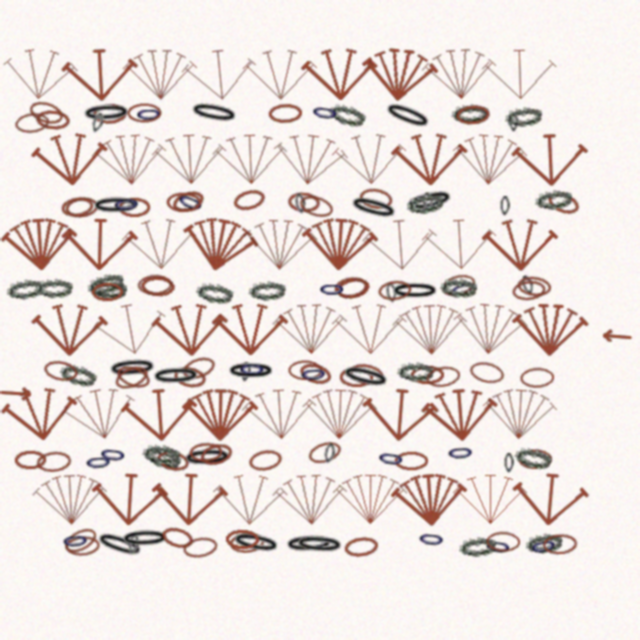chain: (381, 98, 434, 134), (93, 528, 146, 562), (347, 192, 400, 224), (403, 186, 456, 216), (339, 362, 392, 392), (188, 99, 240, 127), (230, 529, 282, 557), (61, 524, 100, 557), (85, 269, 126, 299), (107, 356, 158, 380), (112, 362, 151, 393), (142, 443, 183, 472), (182, 446, 233, 469), (294, 533, 345, 556), (114, 362, 152, 392), (180, 353, 218, 383), (81, 102, 132, 124), (327, 101, 367, 129), (58, 361, 98, 389), (27, 98, 65, 127), (297, 192, 335, 221), (306, 438, 344, 467), (151, 365, 201, 387), (284, 533, 334, 555), (439, 271, 478, 299), (405, 190, 445, 217), (170, 187, 207, 216), (545, 189, 582, 218), (91, 195, 141, 216), (120, 528, 170, 549), (5, 276, 45, 302), (513, 445, 553, 471), (524, 530, 564, 556), (231, 186, 268, 214), (297, 360, 334, 388), (198, 440, 235, 468), (159, 524, 196, 552), (468, 359, 506, 386), (390, 281, 440, 301), (226, 361, 276, 381), (347, 361, 385, 387), (504, 104, 543, 129), (534, 187, 573, 212), (458, 534, 497, 559), (334, 275, 371, 301), (42, 358, 79, 384), (247, 447, 284, 473), (174, 188, 207, 217), (195, 281, 234, 305), (172, 364, 208, 390), (155, 448, 191, 474), (182, 535, 219, 560), (358, 186, 394, 211), (425, 364, 461, 389), (451, 102, 489, 125), (248, 279, 286, 302), (14, 111, 50, 135), (64, 195, 100, 219), (343, 535, 379, 559), (60, 195, 95, 219), (333, 275, 368, 299), (35, 277, 73, 299), (142, 443, 180, 465), (447, 276, 479, 302), (377, 279, 413, 302), (511, 279, 547, 302), (516, 275, 552, 298), (36, 450, 72, 473), (229, 531, 265, 554), (542, 533, 578, 555), (440, 277, 477, 298), (397, 361, 434, 382), (35, 109, 70, 131), (455, 104, 490, 126), (140, 275, 175, 297), (65, 535, 100, 557), (137, 274, 173, 295), (287, 191, 321, 213), (528, 534, 559, 558), (90, 279, 127, 299), (92, 103, 127, 124), (268, 103, 302, 124), (520, 367, 554, 388), (189, 442, 223, 463), (486, 531, 520, 552), (127, 103, 162, 123), (166, 192, 201, 212), (310, 101, 340, 124), (98, 443, 128, 466), (376, 447, 406, 470), (483, 535, 513, 558), (288, 360, 322, 380), (339, 367, 373, 387), (410, 365, 444, 385), (394, 451, 428, 471), (518, 449, 552, 469), (225, 529, 259, 549), (118, 197, 151, 217), (91, 282, 124, 302), (14, 450, 47, 470), (112, 193, 141, 215), (299, 363, 328, 385), (84, 451, 113, 473), (417, 528, 446, 550), (446, 442, 475, 463), (61, 530, 90, 551), (135, 104, 163, 124), (318, 279, 346, 299), (238, 359, 266, 379), (520, 274, 536, 296), (90, 112, 105, 134), (294, 193, 307, 214), (385, 282, 398, 303), (323, 443, 336, 464), (127, 534, 140, 555), (422, 192, 434, 213), (508, 112, 519, 132), (240, 362, 251, 382), (500, 196, 510, 216), (504, 453, 514, 473)
fan: (57, 378, 142, 449), (177, 209, 262, 279), (88, 294, 172, 363), (269, 126, 351, 192), (0, 381, 81, 446), (179, 42, 260, 106), (359, 42, 440, 106), (0, 42, 80, 105), (30, 127, 110, 190), (450, 297, 530, 360), (510, 467, 590, 530), (360, 213, 440, 275), (360, 383, 440, 445), (420, 383, 500, 445), (90, 128, 169, 190), (450, 128, 529, 190), (120, 383, 199, 445), (390, 468, 469, 530), (420, 43, 499, 104), (150, 128, 229, 189), (330, 128, 409, 189), (0, 213, 79, 274), (120, 213, 199, 274), (300, 213, 379, 274), (420, 213, 499, 274), (240, 383, 319, 444), (480, 383, 559, 444), (90, 468, 169, 529), (150, 468, 229, 529), (61, 44, 139, 104), (511, 129, 589, 189), (241, 214, 319, 274), (151, 299, 229, 359), (391, 299, 469, 359), (511, 299, 589, 359), (31, 469, 109, 529), (211, 469, 289, 529), (271, 469, 349, 529), (211, 129, 289, 188), (271, 299, 349, 358), (301, 44, 378, 103), (481, 44, 558, 103), (391, 129, 468, 188), (61, 214, 138, 273), (331, 299, 408, 358), (301, 384, 378, 443), (31, 300, 108, 358), (122, 45, 198, 103), (242, 45, 318, 103), (482, 215, 558, 273), (182, 385, 258, 443), (212, 300, 288, 357), (332, 470, 408, 527), (452, 470, 528, 527)
noise: (0, 386, 33, 401), (600, 329, 632, 343)
